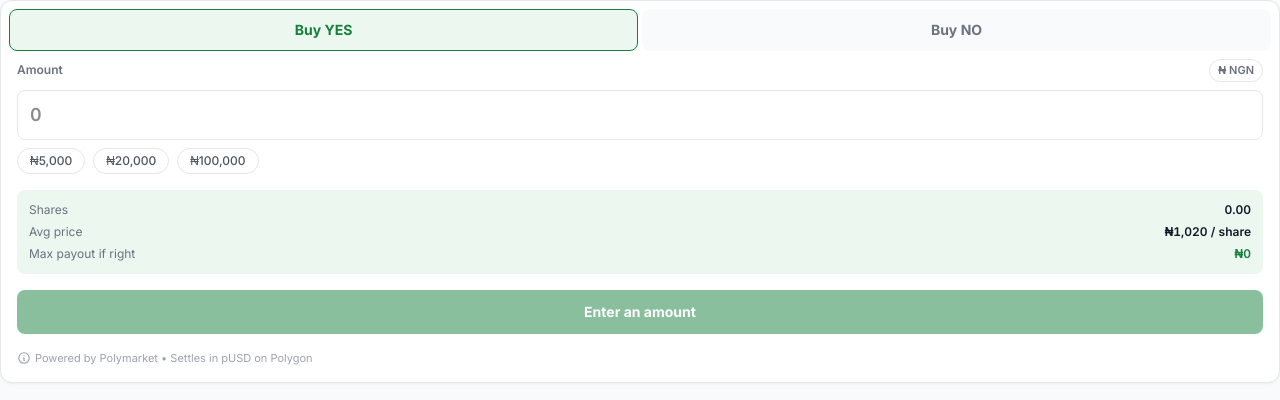
OrderPanel button states › shows a buy CTA once ready and an amount is entered
In the field named "order amount": (640, 114) [17,90,1263,140], type "20000"
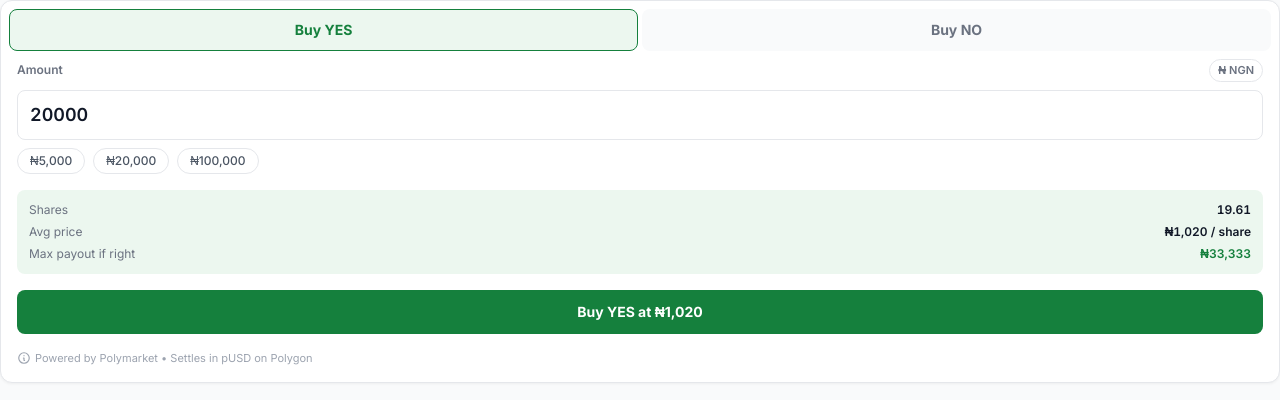
Expected: the button "Buy YES at ₦1,020" is shown, [17,290,1263,334]
